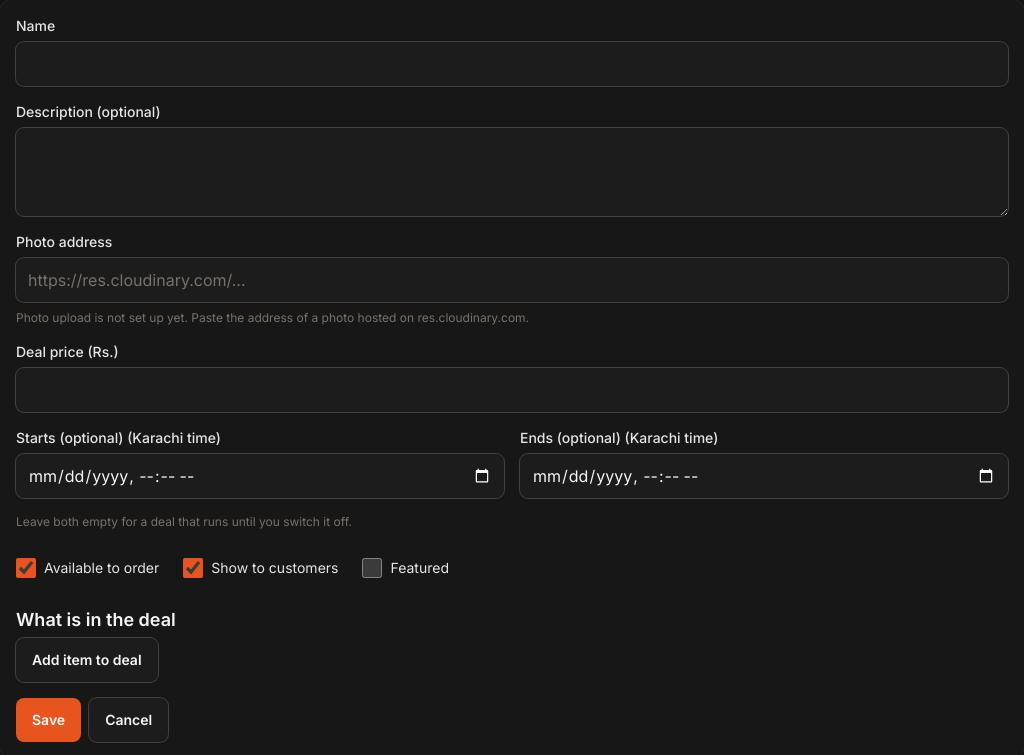
Test case: DealForm › removes an item
Click the button "Add item to deal" at (87, 660), box [16,638,158,682]
(page scrolled)
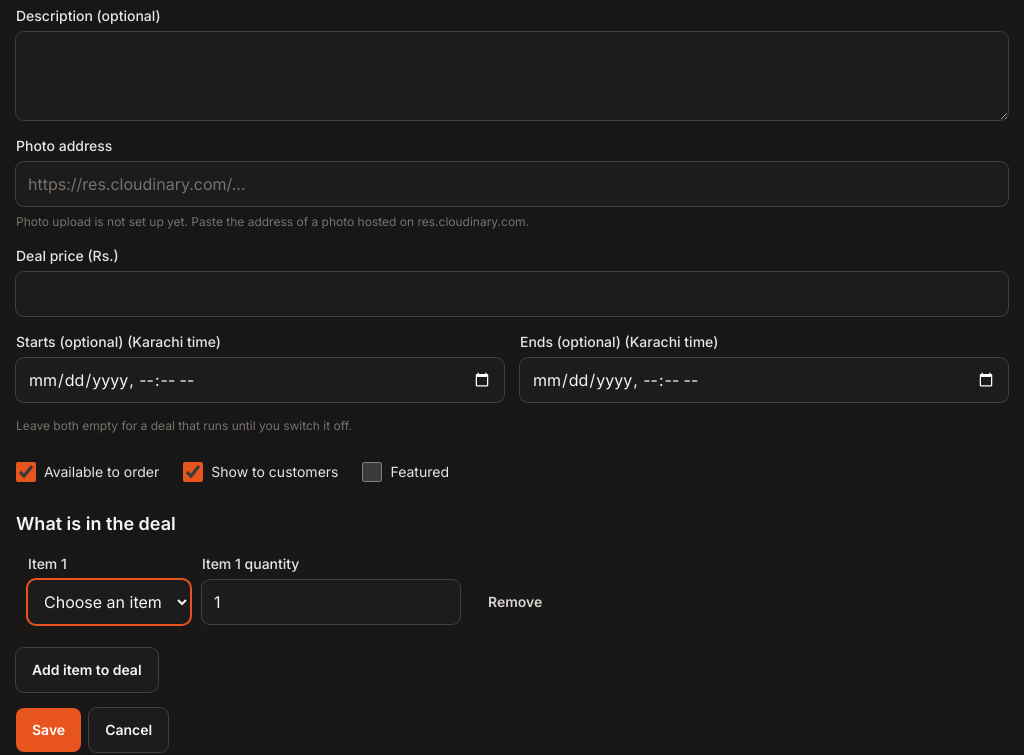
Click the button "Add item to deal" at (87, 670), box [16,648,158,692]
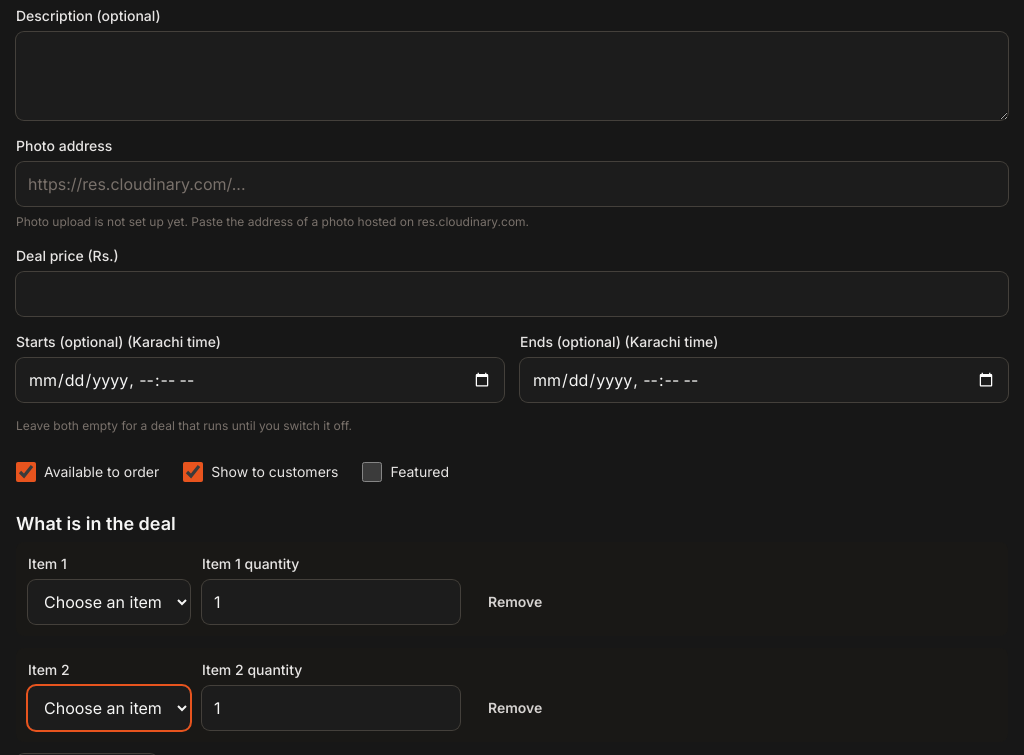
expect the dropdown labelled "Item 2" is shown: met, box [28,686,190,730]
Click the button with aria-label "Remove item 1" at (515, 602), box [472,580,558,624]
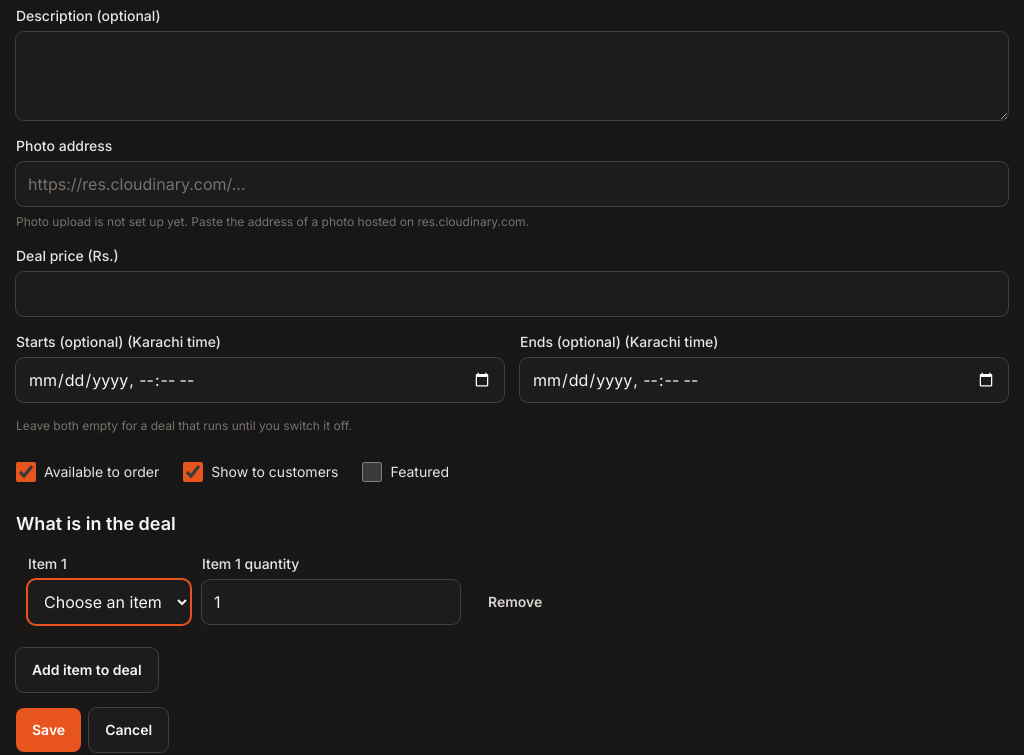
expect the dropdown labelled "Item 1" is shown: met, box [28,580,190,624]
expect the label labelled "Item 2" is gone: met
